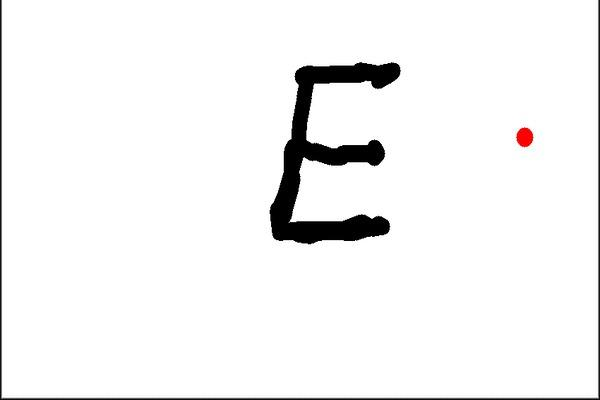E: (259, 57, 408, 251)
